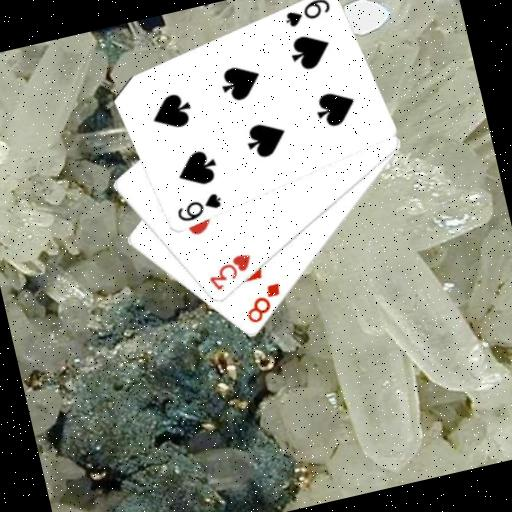3H: (202, 250, 259, 295)
6S: (171, 189, 226, 226), (279, 0, 334, 30)
8D: (239, 279, 289, 328)
